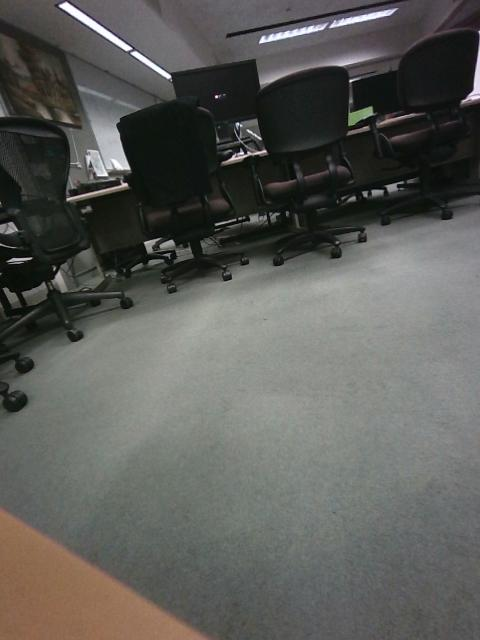block: (155, 292, 186, 315)
